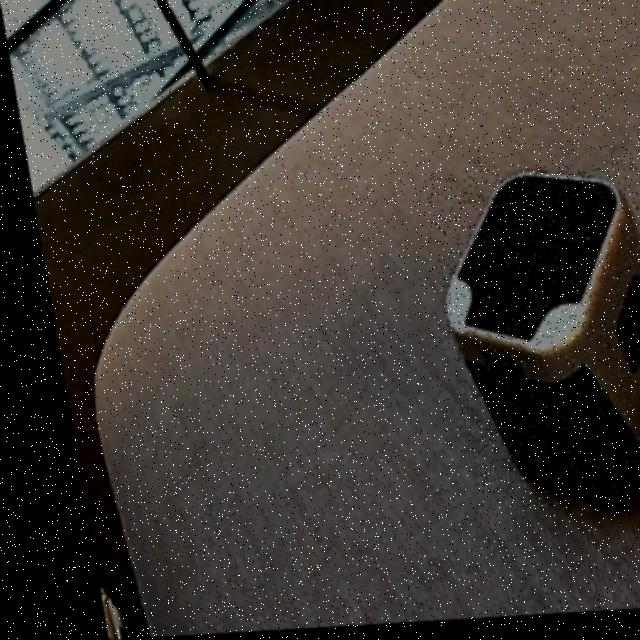adapter: (414, 169, 640, 515)
